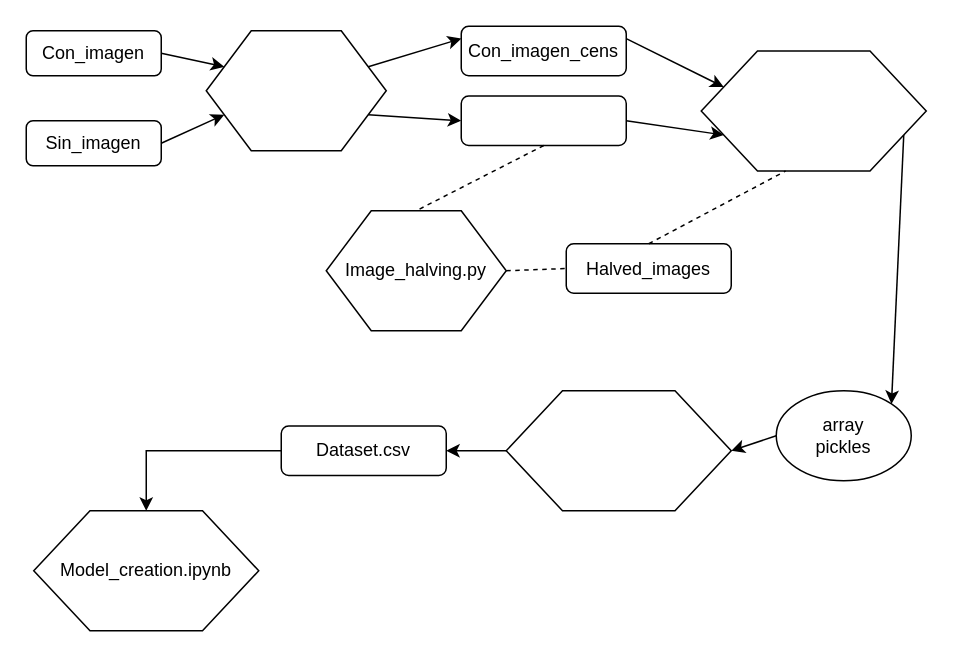
This 953x657 diagram has some shape labels left out. The centre of each missing label's shape, as x and y in pixels:
"Dataset_VGG16.ipynb" goes at point 618,450.
"Image_ preprocessing.py" goes at point 295,90.
"PretrainedModel.py" goes at point 813,110.
"Sin_imagen_cens" goes at point 543,120.
